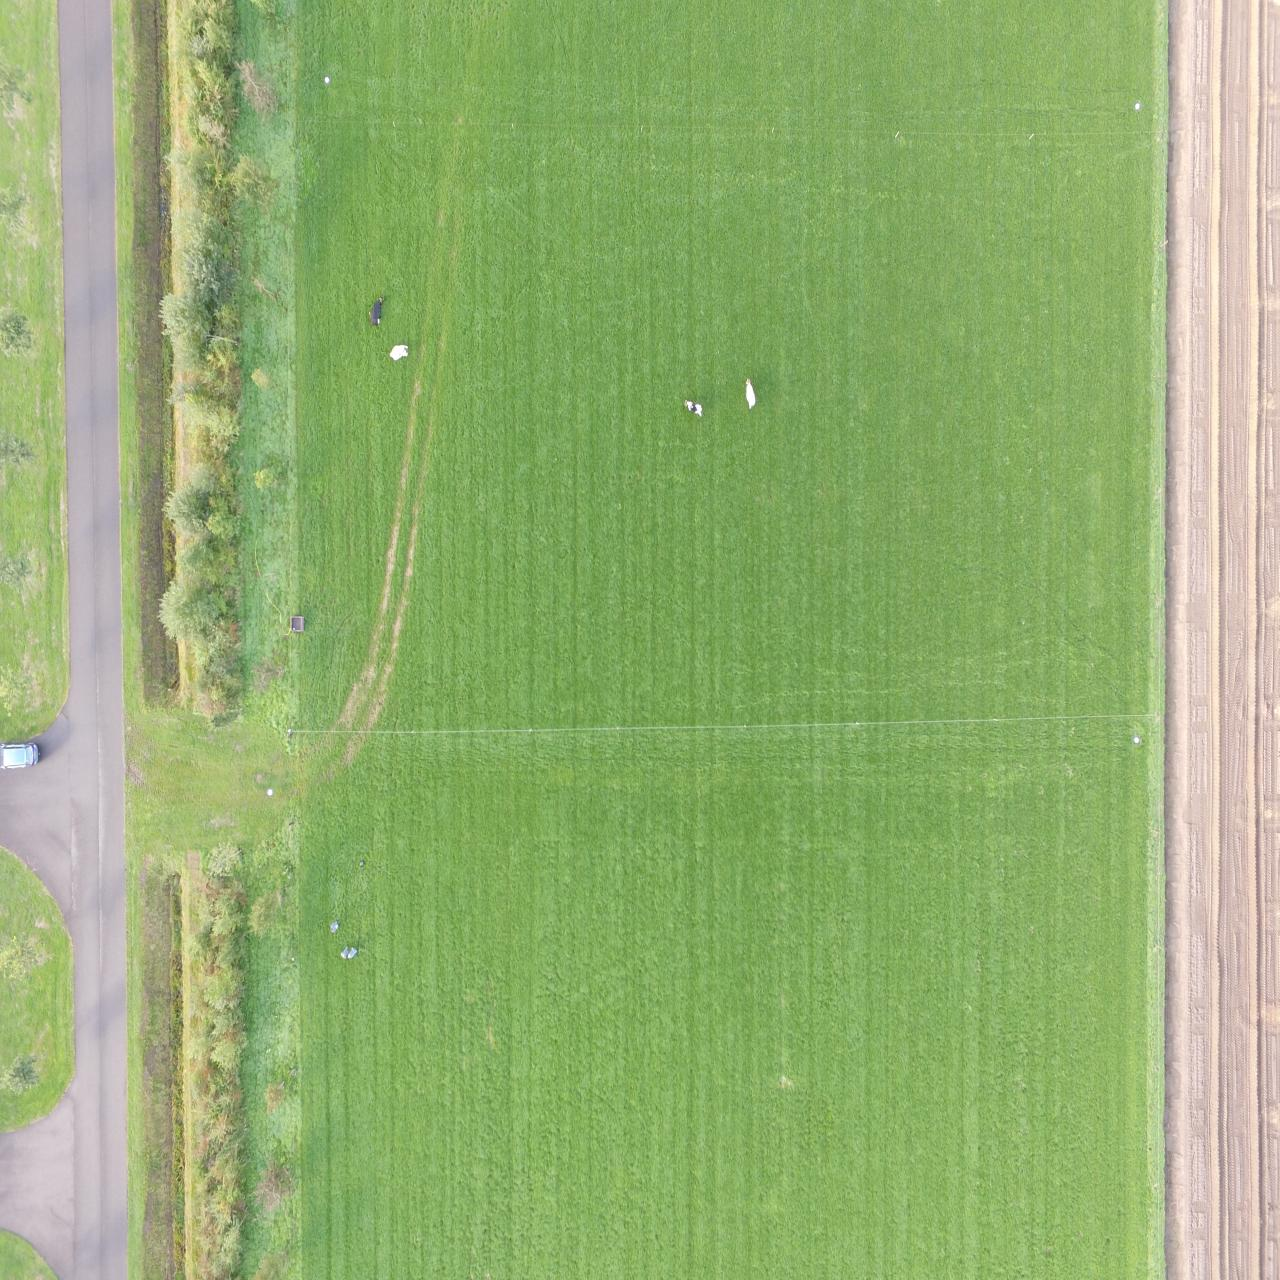cow: (368, 293, 383, 328), (386, 341, 408, 362), (744, 379, 756, 410), (683, 400, 704, 417)
